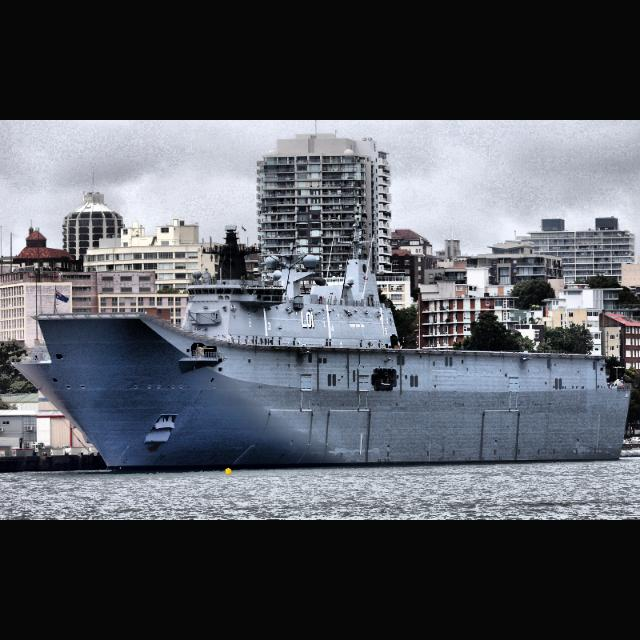combat_vessel: (11, 224, 634, 476)
